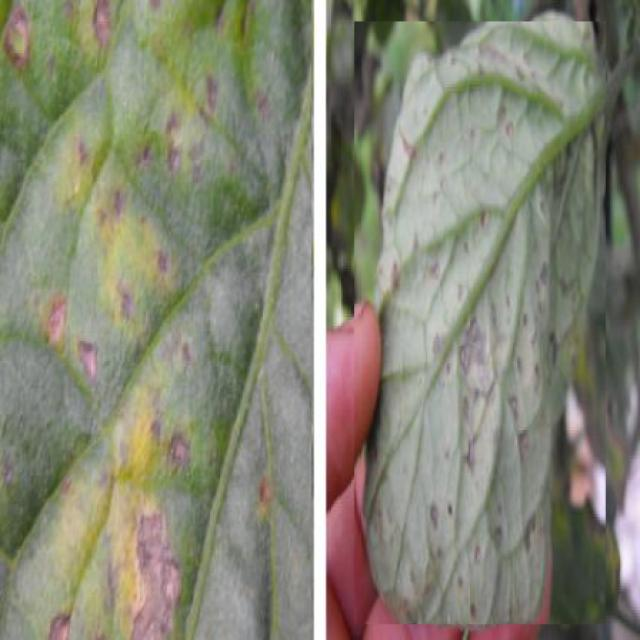Septoria: (0, 0, 311, 640), (354, 21, 606, 624)
